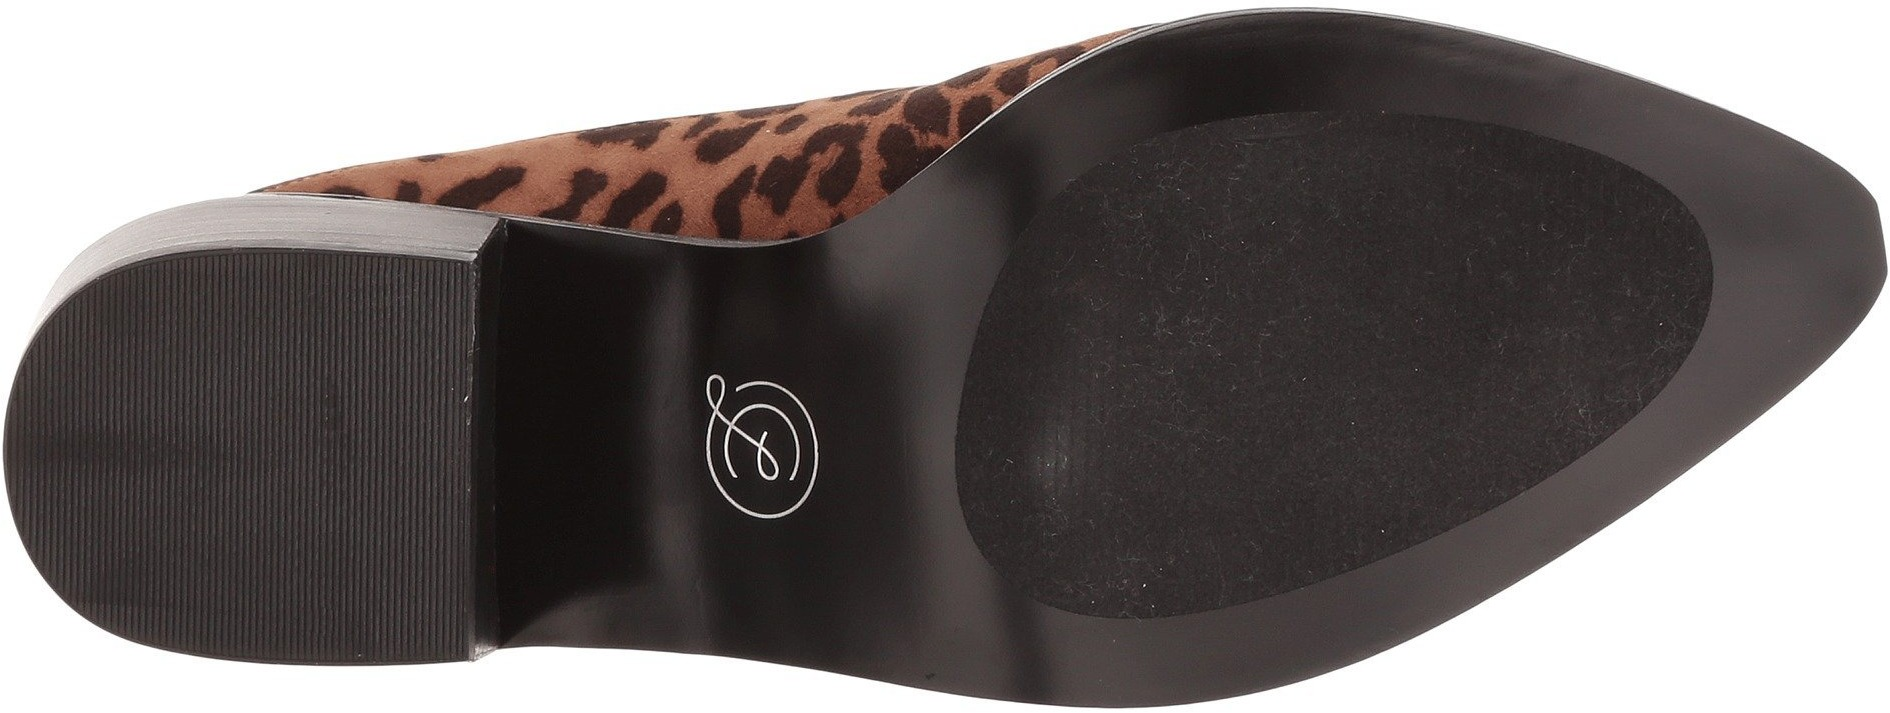other: (87, 287, 419, 627), (1255, 206, 1503, 482), (1012, 275, 1254, 497)
